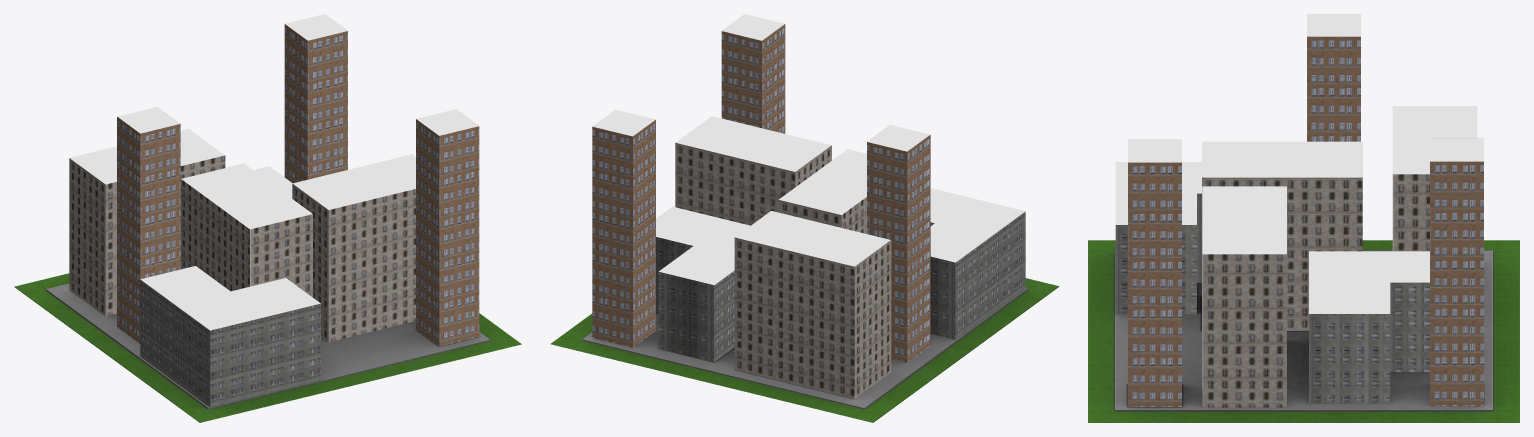
Rendered from house_zone.FBX.
3 views of the same model, side by side, from view 1: azimuth 30°, elevation 25°; view 2: azimuth 150°, elevation 25°; view 3: azimuth 270°, elevation 25° (orthographic). The views are drawn at different scales.
Visible parts, largest first — view 1: Box006; view 2: Box006; view 3: Box006.
Part boxes in pixels (x1,y1,x2,y2): Box006: [14, 14, 521, 422]; Box006: [550, 14, 1059, 422]; Box006: [1088, 14, 1519, 422].
Bounding box in the file's own units: 800 × 504 × 800.
Materials: 5 (5 with a texture image).
